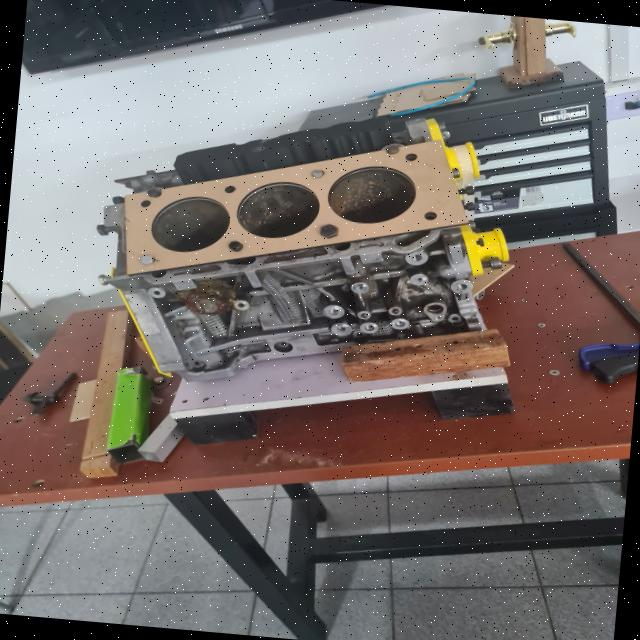tor_v1: (125, 140, 467, 273)
